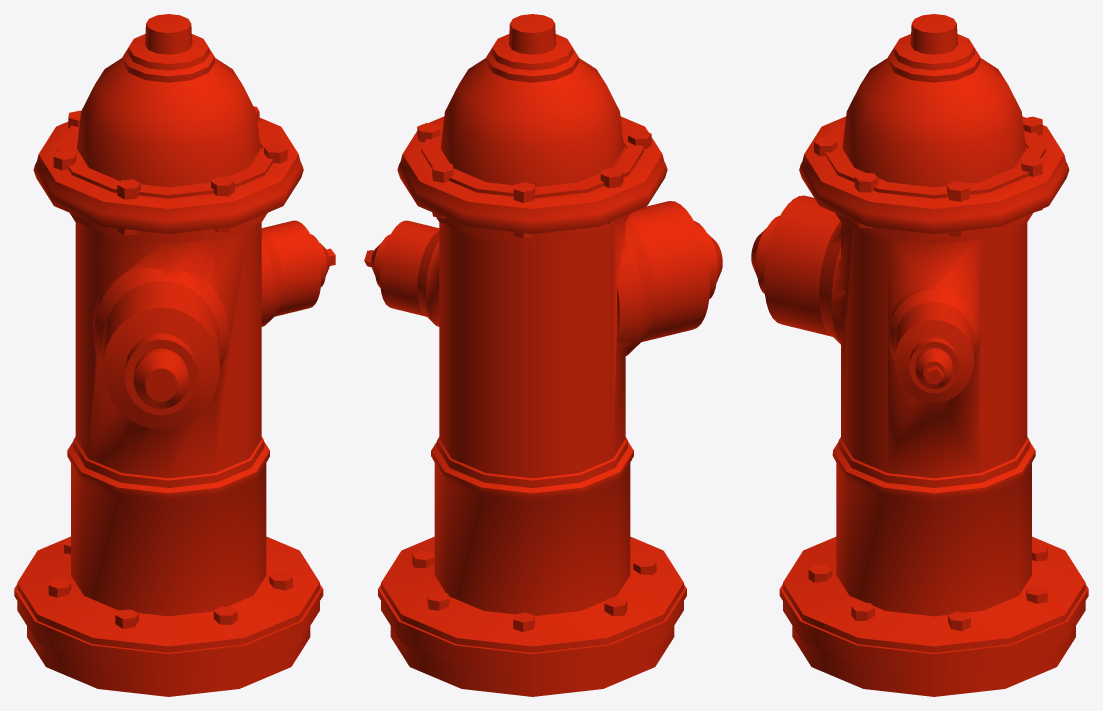
Rendered from fire hydrant.glb.
3 renders of one model, left to right at view 1: azimuth 30°, elevation 25°; view 2: azimuth 150°, elevation 25°; view 3: azimuth 270°, elevation 25°, orthographic.
Parts seen in each view (by area): view 1: FireHidrants_0, Cylinder.003_1; view 2: FireHidrants_0, Cylinder.003_1; view 3: FireHidrants_0, Cylinder.003_1.
Boxes of the visible parts, box(x1,y1,x2,y2) form: FireHidrants_0: box(14, 14, 335, 696); Cylinder.003_1: box(48, 106, 292, 628); FireHidrants_0: box(364, 14, 722, 696); Cylinder.003_1: box(412, 123, 656, 631); FireHidrants_0: box(751, 14, 1088, 696); Cylinder.003_1: box(808, 116, 1047, 631).
Size of the model in its own units: 1.37 by 2.71 by 1.35.
